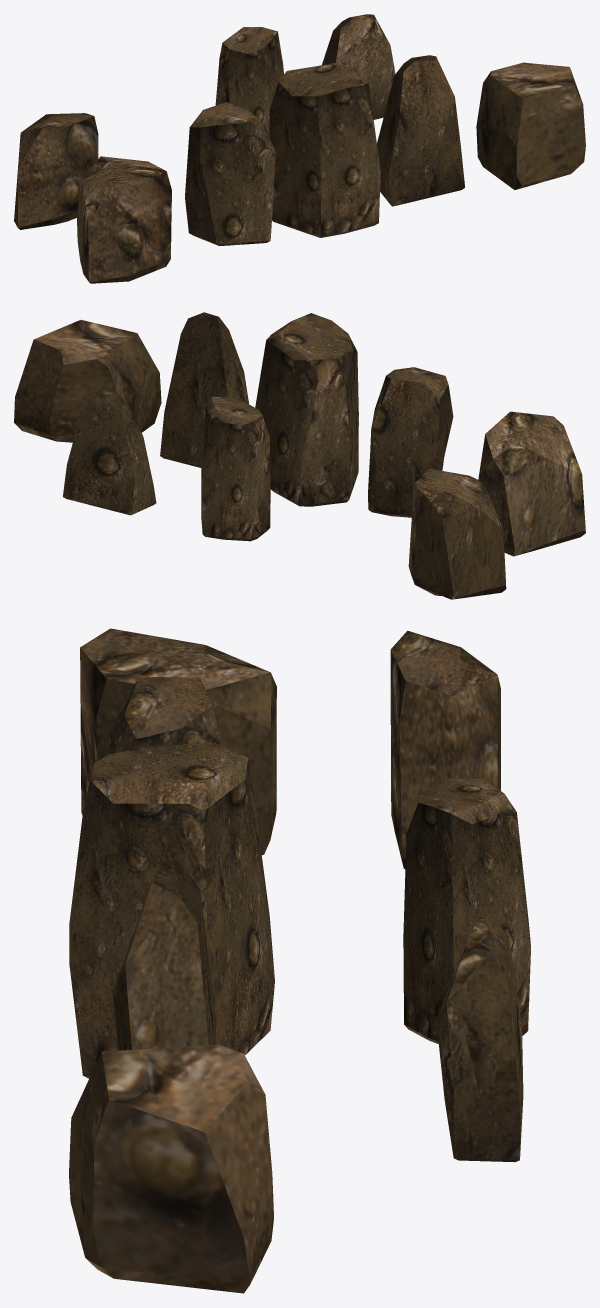
File: Collapsed Soil Piece.fbx
3 renders of one model, top to bottom at view 1: azimuth 30°, elevation 25°; view 2: azimuth 150°, elevation 25°; view 3: azimuth 270°, elevation 25°, orthographic. The views are drawn at different scales.
Visible parts, largest first — view 1: Collapsed Soil Piece.005, Collapsed Soil Piece.007, Collapsed Soil Piece.004, Collapsed Soil Piece.008, Collapsed Soil Piece.002, Collapsed Soil Piece.001, Collapsed Soil Piece.006, Collapsed Soil Piece.003; view 2: Collapsed Soil Piece.005, Collapsed Soil Piece.007, Collapsed Soil Piece.008, Collapsed Soil Piece.001, Collapsed Soil Piece.004, Collapsed Soil Piece.006, Collapsed Soil Piece.003, Collapsed Soil Piece.002; view 3: Collapsed Soil Piece.007, Collapsed Soil Piece.005, Collapsed Soil Piece.006, Collapsed Soil Piece.008, Collapsed Soil Piece.003, Collapsed Soil Piece.001, Collapsed Soil Piece.002, Collapsed Soil Piece.004.
Boxes of the visible parts, left/top/right/bottom form: Collapsed Soil Piece.005: left=269, top=62, right=380, bottom=237; Collapsed Soil Piece.007: left=476, top=62, right=585, bottom=189; Collapsed Soil Piece.004: left=185, top=102, right=275, bottom=245; Collapsed Soil Piece.008: left=77, top=156, right=171, bottom=283; Collapsed Soil Piece.002: left=377, top=55, right=464, bottom=206; Collapsed Soil Piece.001: left=14, top=113, right=98, bottom=229; Collapsed Soil Piece.006: left=215, top=27, right=283, bottom=137; Collapsed Soil Piece.003: left=322, top=14, right=395, bottom=119; Collapsed Soil Piece.005: left=255, top=313, right=358, bottom=506; Collapsed Soil Piece.007: left=14, top=320, right=161, bottom=442; Collapsed Soil Piece.008: left=478, top=411, right=585, bottom=556; Collapsed Soil Piece.001: left=408, top=468, right=506, bottom=599; Collapsed Soil Piece.004: left=368, top=367, right=453, bottom=517; Collapsed Soil Piece.006: left=201, top=397, right=270, bottom=541; Collapsed Soil Piece.003: left=63, top=390, right=156, bottom=515; Collapsed Soil Piece.002: left=160, top=312, right=249, bottom=467; Collapsed Soil Piece.007: left=69, top=1044, right=273, bottom=1293; Collapsed Soil Piece.005: left=69, top=742, right=274, bottom=1078; Collapsed Soil Piece.006: left=403, top=778, right=530, bottom=1043; Collapsed Soil Piece.008: left=80, top=628, right=276, bottom=854; Collapsed Soil Piece.003: left=436, top=916, right=523, bottom=1162; Collapsed Soil Piece.001: left=390, top=630, right=500, bottom=868; Collapsed Soil Piece.002: left=113, top=859, right=216, bottom=1050; Collapsed Soil Piece.004: left=109, top=677, right=222, bottom=753.
Bounding box in the file's own units: 1915 × 532 × 748.
Materials: 1 (1 with a texture image).
